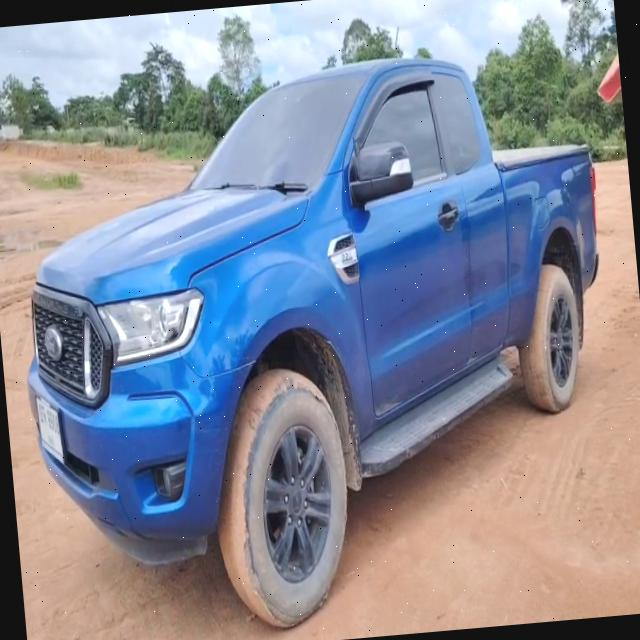Digit: (46, 408, 60, 437)
Licenseplate: (35, 395, 65, 466)
Provincename: (47, 430, 56, 450)
Thaichar: (37, 401, 47, 426)
